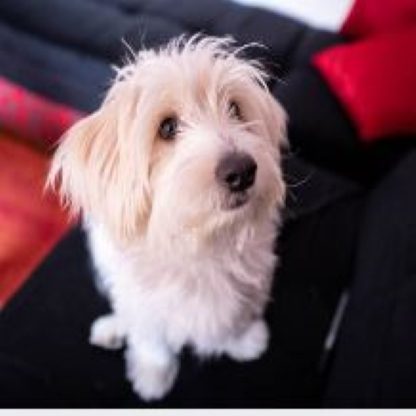maltese: (46, 34, 289, 398)
